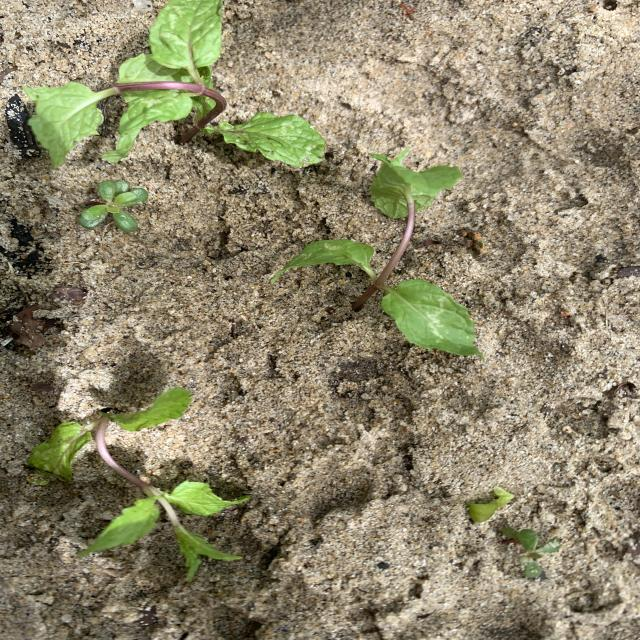crop: (24, 1, 323, 167), (29, 388, 249, 581), (285, 149, 480, 357)
weed: (80, 181, 147, 231), (503, 528, 559, 577)
